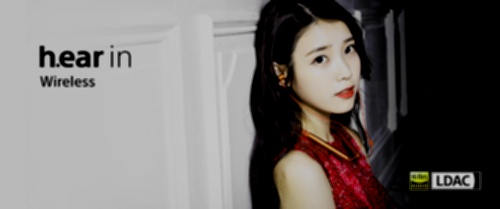earphone: (270, 62, 292, 88)
